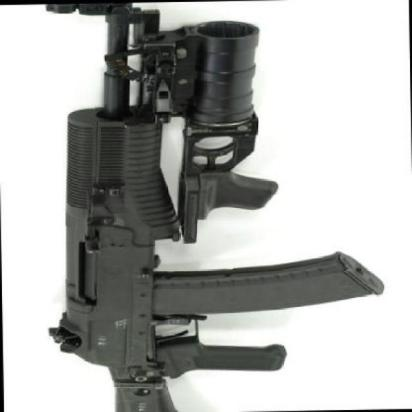Gun: (14, 4, 374, 412)
